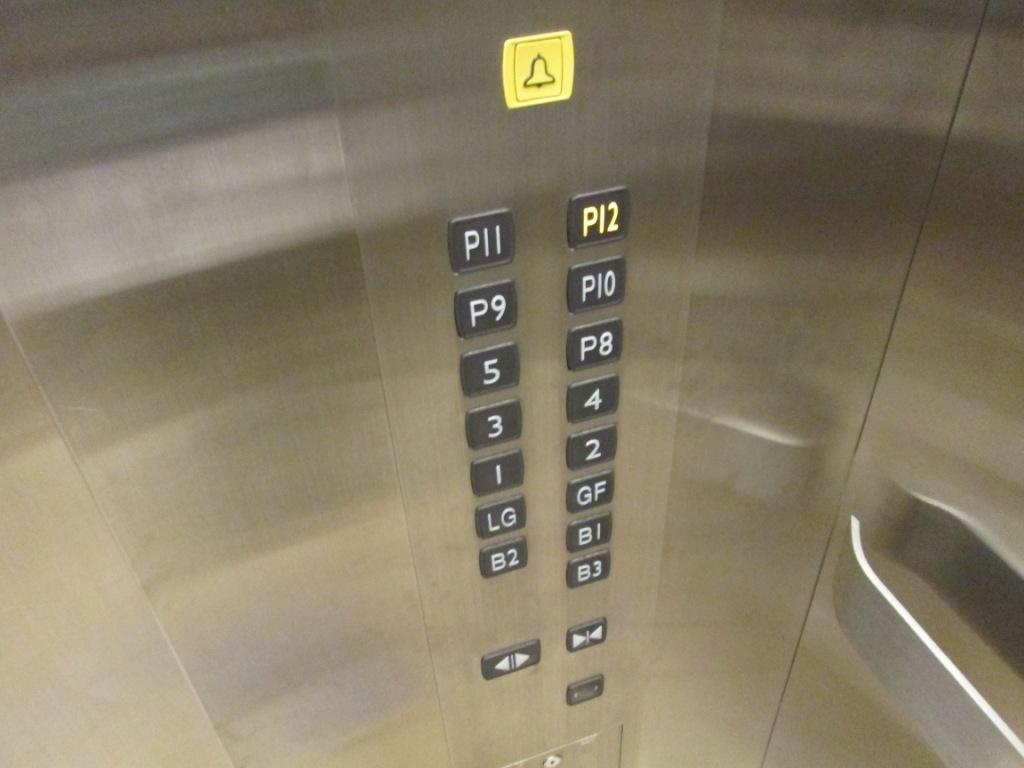1: (473, 445, 524, 497)
2: (563, 423, 619, 468)
3: (460, 394, 527, 455)
4: (563, 374, 621, 428)
5: (457, 343, 521, 399)
B1: (562, 512, 617, 555)
B2: (476, 541, 532, 579)
B3: (565, 555, 611, 589)
GF: (563, 468, 617, 514)
LG: (471, 497, 529, 538)
P10: (562, 255, 627, 317)
P11: (444, 209, 521, 273)
P12: (562, 182, 635, 253)
P8: (562, 317, 629, 376)
P9: (453, 279, 521, 343)
alarm: (499, 25, 580, 112)
blur: (565, 674, 606, 709)
close: (563, 618, 607, 656)
open: (478, 640, 540, 682)
